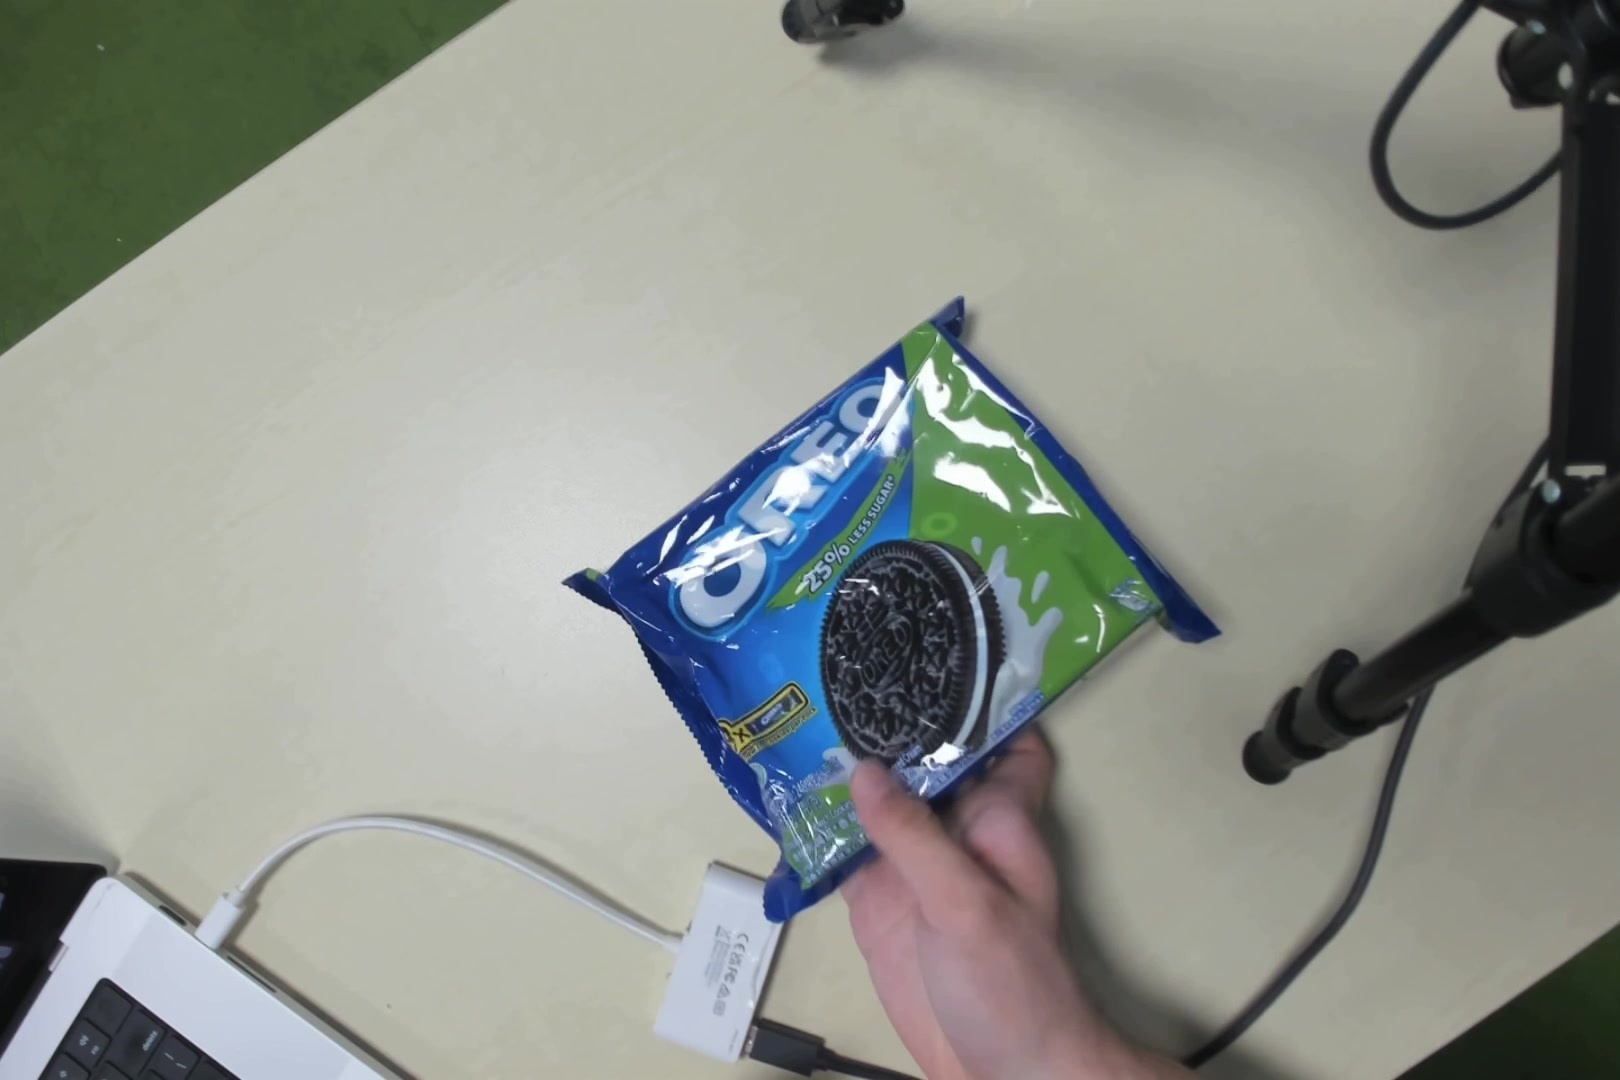SweetsChocolatesOthers_200-299g_Halal_NonHealthy: (674, 350, 1107, 833)
